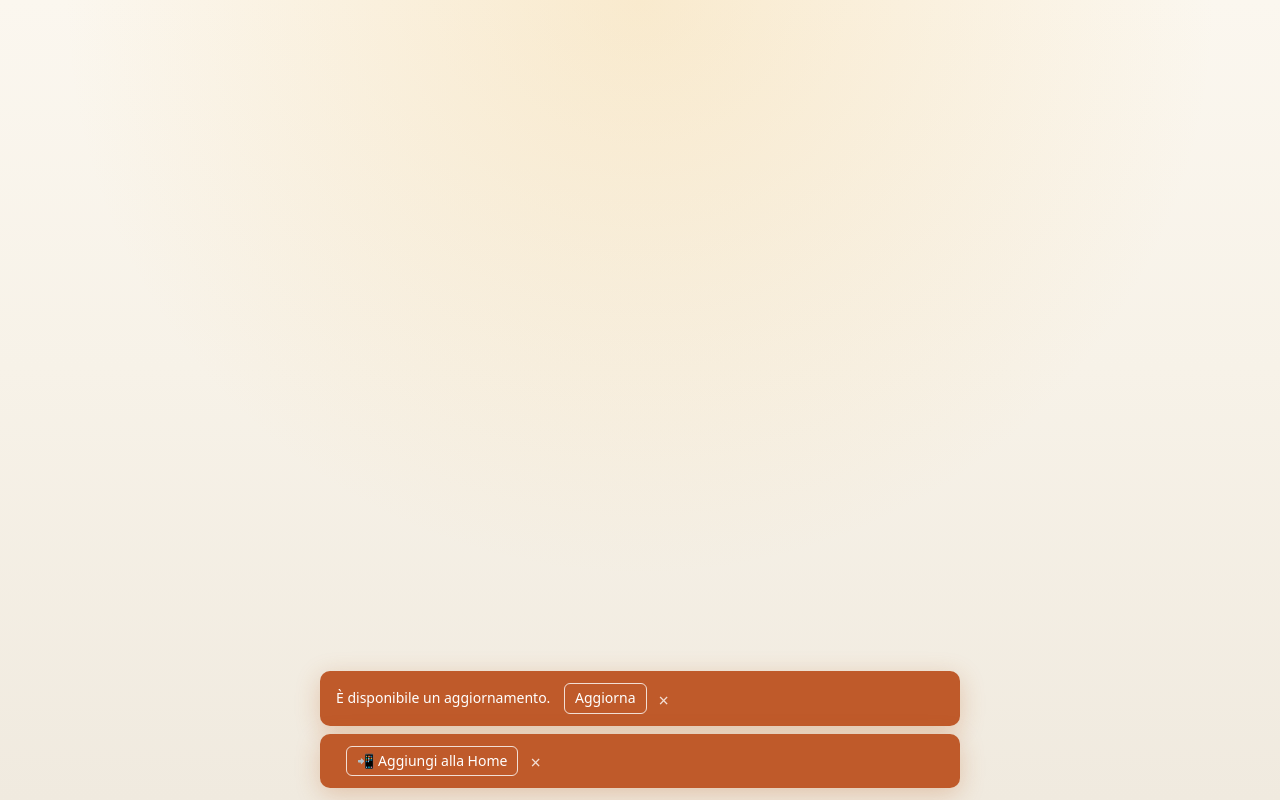
Test case: CustomerPwaPrompt › chiama updateServiceWorker e reload al click su "Aggiorna"
The width and height of the screenshot is (1280, 800).
Click the button "Aggiorna": (605, 699) [564,683,646,714]
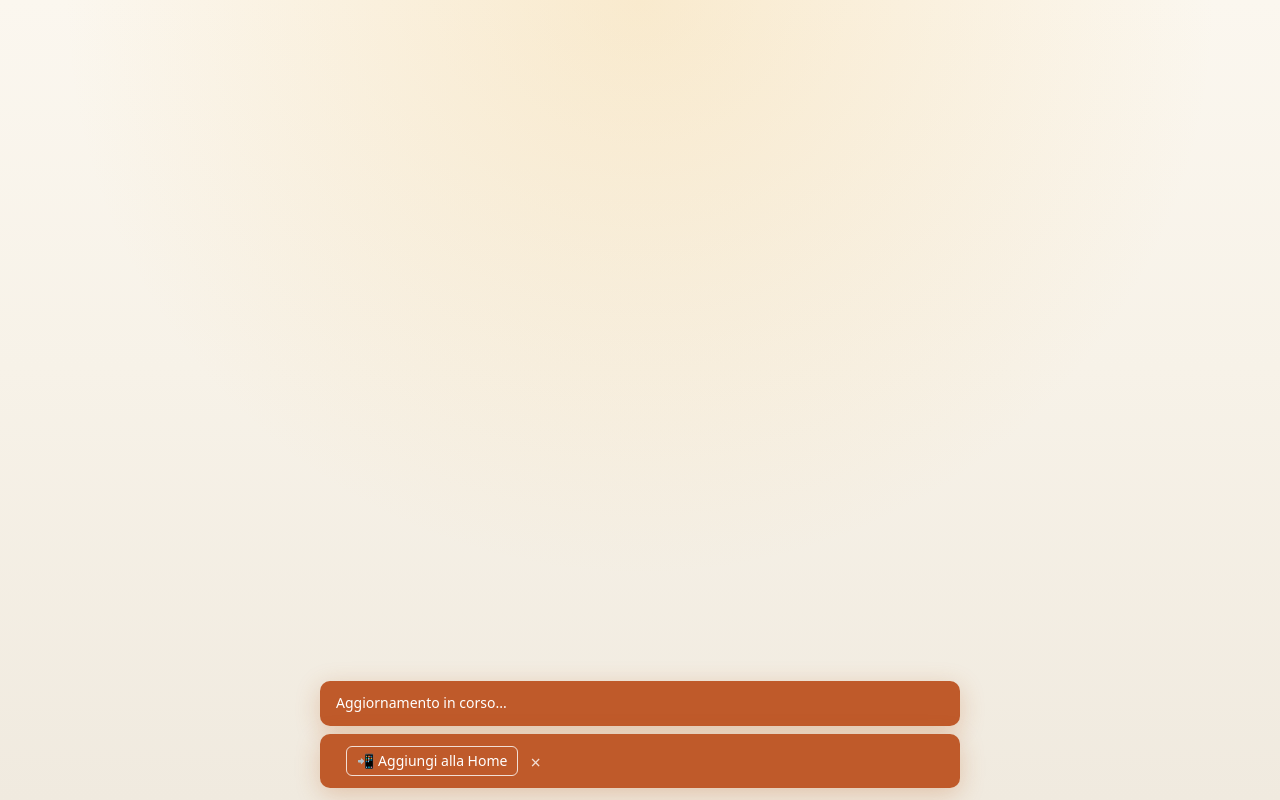
Result: the text "Aggiornamento in corso..." is shown at [320,681,960,726]
